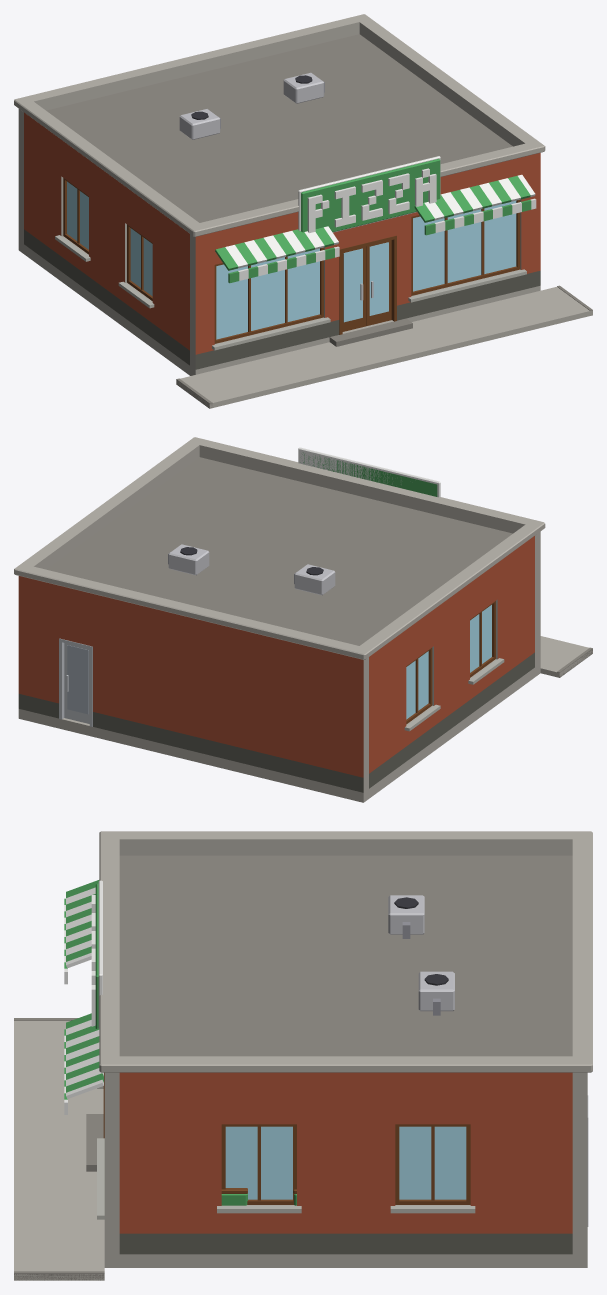
File: Pizzeria.fbx
3 renders of one model, top to bottom at view 1: azimuth 30°, elevation 25°; view 2: azimuth 150°, elevation 25°; view 3: azimuth 270°, elevation 25°, orthographic. The views are drawn at different scales.
Visible parts, largest first — view 1: Pizzeria, Pizzeria_Roof, Pizzeria_Glass, Pizzeria_Sign, Pizzeria_DoorR, Pizzeria_DoorL; view 2: Pizzeria, Pizzeria_Roof, Pizzeria_Sign, Pizzeria_Glass, Pizzeria_BackDoor; view 3: Pizzeria, Pizzeria_Roof, Pizzeria_Glass, Pizzeria_Sign.
Boxes of the visible parts, x1=… form: Pizzeria: x1=14, y1=14, x2=592, y2=408; Pizzeria_Roof: x1=46, y1=34, x2=512, y2=222; Pizzeria_Glass: x1=67, y1=181, x2=516, y2=339; Pizzeria_Sign: x1=298, y1=156, x2=440, y2=233; Pizzeria_DoorR: x1=366, y1=240, x2=391, y2=326; Pizzeria_DoorL: x1=342, y1=246, x2=365, y2=331; Pizzeria: x1=14, y1=437, x2=592, y2=802; Pizzeria_Roof: x1=46, y1=457, x2=512, y2=645; Pizzeria_Sign: x1=298, y1=447, x2=440, y2=497; Pizzeria_Glass: x1=406, y1=605, x2=491, y2=719; Pizzeria_BackDoor: x1=64, y1=643, x2=89, y2=723; Pizzeria: x1=14, y1=831, x2=592, y2=1280; Pizzeria_Roof: x1=119, y1=855, x2=572, y2=1056; Pizzeria_Glass: x1=225, y1=1126, x2=466, y2=1199; Pizzeria_Sign: x1=91, y1=880, x2=102, y2=1028.
Size of the model in its own units: 40 by 16.5 by 38.35.
1 material, 1 textured.
